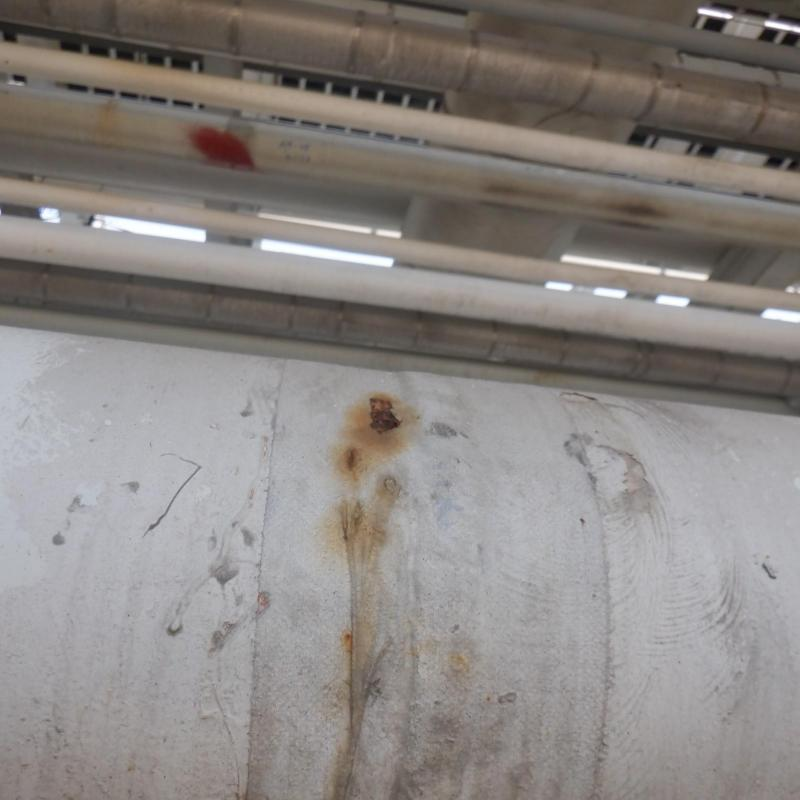corrosion: (197, 126, 254, 169), (367, 385, 406, 441)
